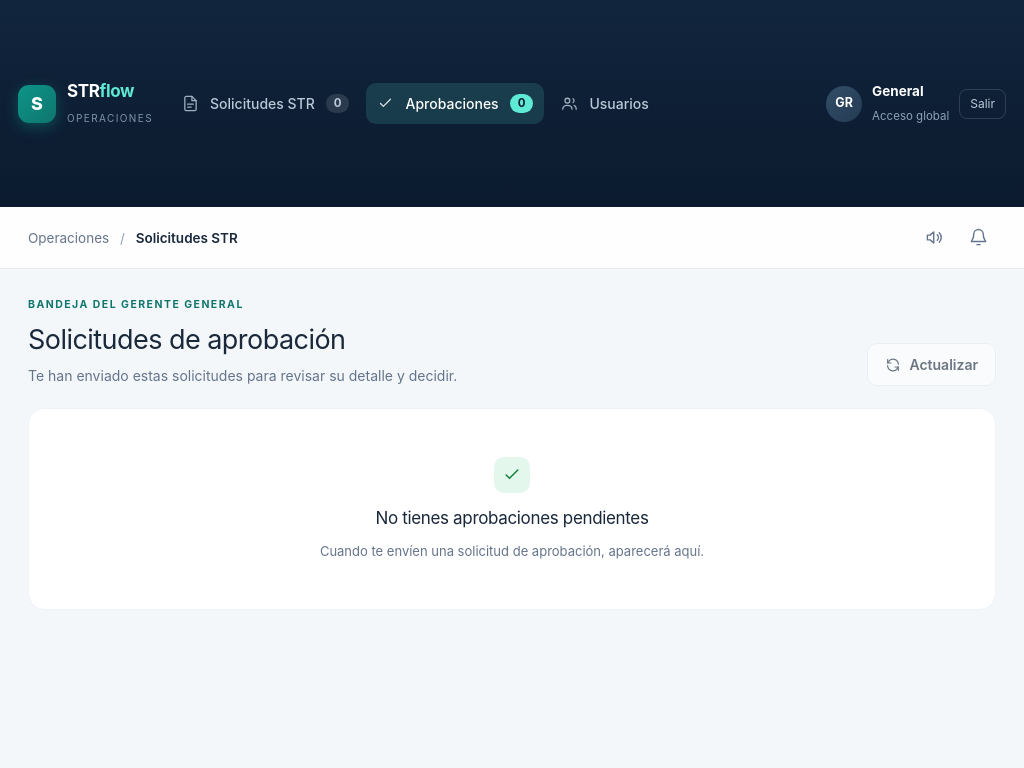
Test: historial de notificaciones › arranca vacío y lo dice
Click the link "Solicitudes STR 0" at (266, 104), box [182, 94, 349, 113]
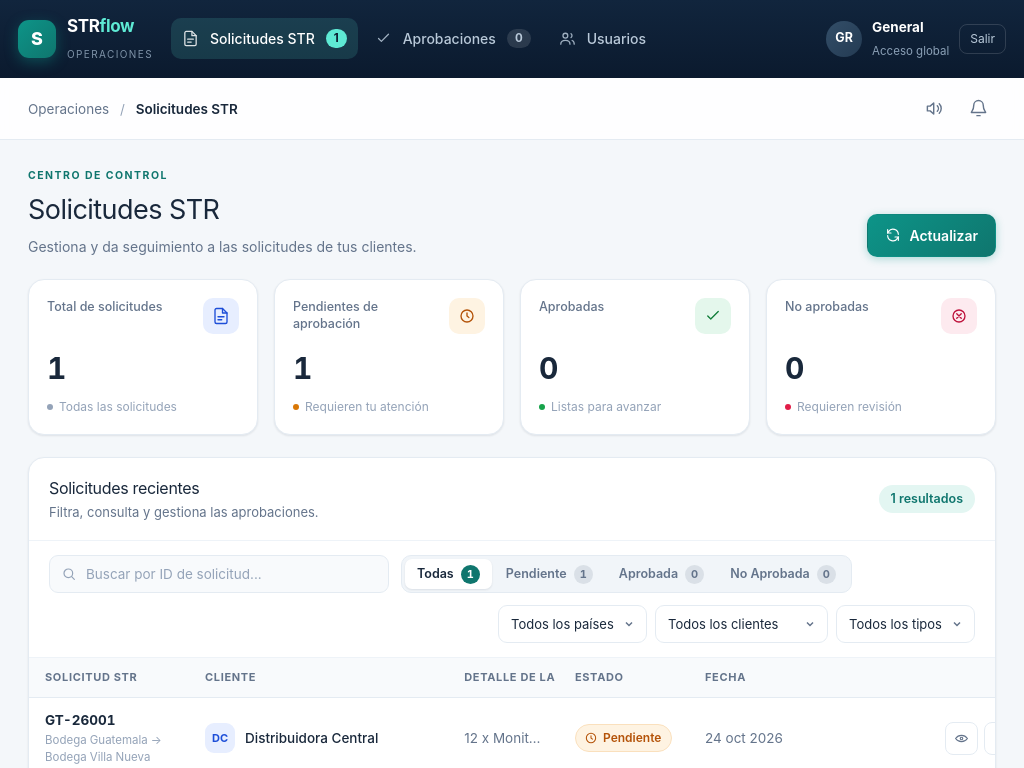
Click the button named "Notificaciones" at (978, 108), box [960, 90, 996, 126]
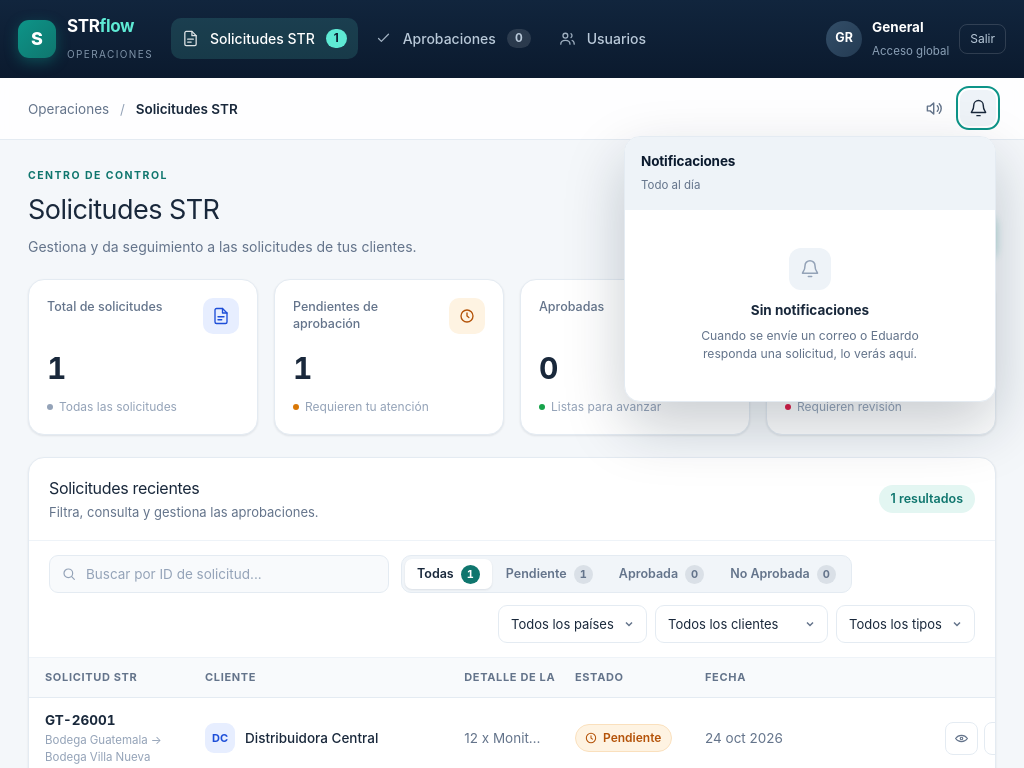
Now the text "Sin notificaciones" is shown, box [751, 300, 869, 321]
Now the text "Todo al día" is shown, box [641, 178, 700, 192]
